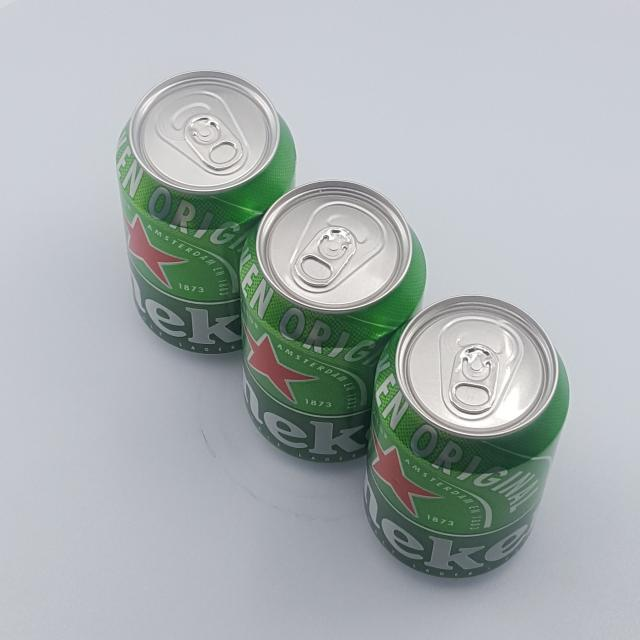beer-can: (363, 294, 569, 579), (239, 180, 426, 462), (116, 70, 296, 354)
